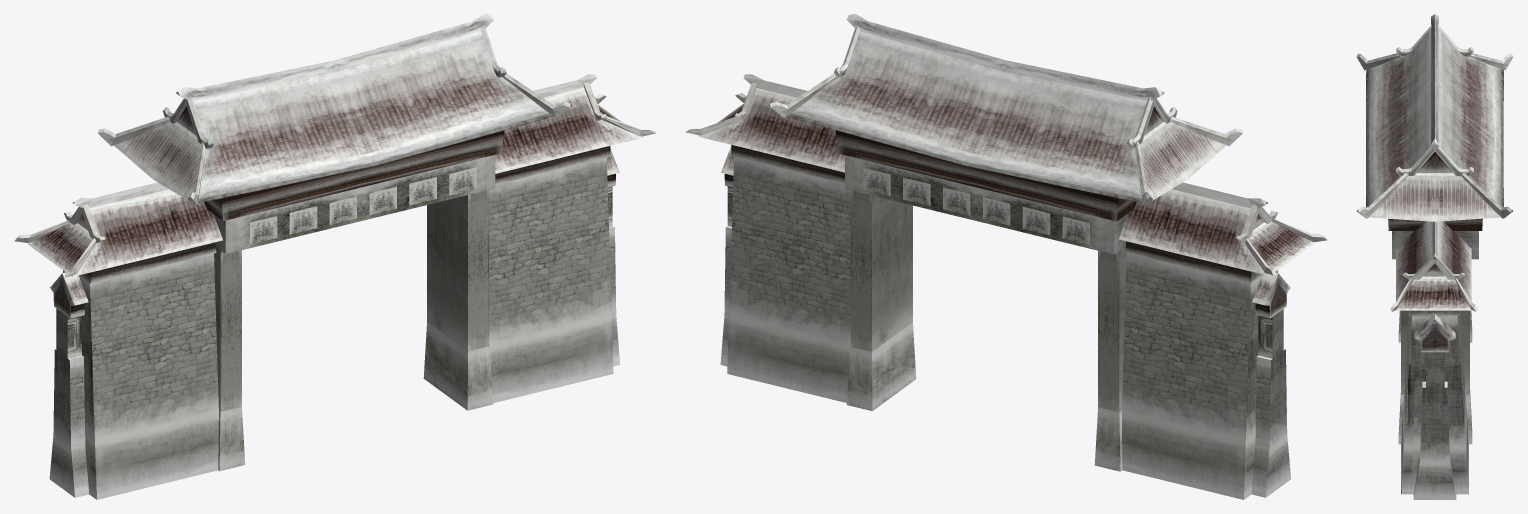
The model's file is snow-middledam-01_lod_01.fbx.
The picture shows the model from 3 angles, left to right: view 1: azimuth 30°, elevation 25°; view 2: azimuth 150°, elevation 25°; view 3: azimuth 270°, elevation 25°; orthographic projection. The views are drawn at different scales.
Parts seen in each view (by area): view 1: snow-middledam-03, snow-middledam-01; view 2: snow-middledam-03, snow-middledam-01; view 3: snow-middledam-01, snow-middledam-03.
Part boxes in pixels (x1=…): snow-middledam-03: x1=14, y1=74, x2=655, y2=499; snow-middledam-01: x1=98, y1=14, x2=571, y2=471; snow-middledam-03: x1=686, y1=74, x2=1327, y2=499; snow-middledam-01: x1=768, y1=14, x2=1242, y2=471; snow-middledam-01: x1=1356, y1=14, x2=1513, y2=444; snow-middledam-03: x1=1390, y1=221, x2=1477, y2=499.
Size of the model in its own units: 22.82 by 13.67 by 6.24.
